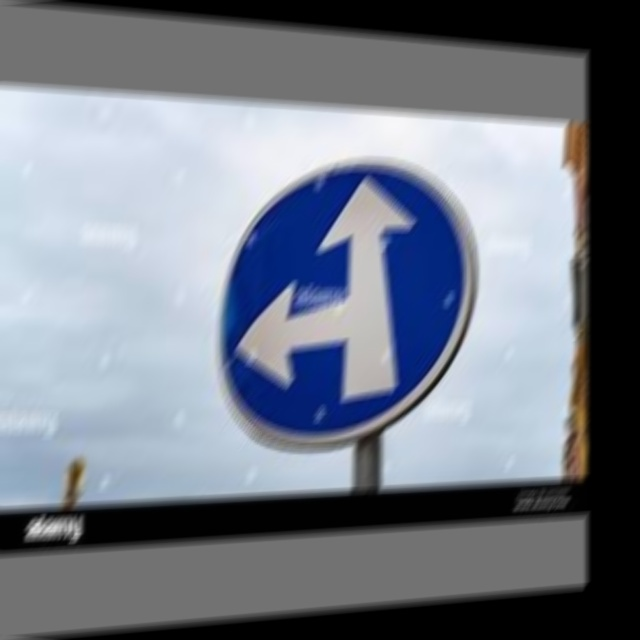Compulsory_Ahead_or_Turn_Left: (225, 155, 472, 444)
